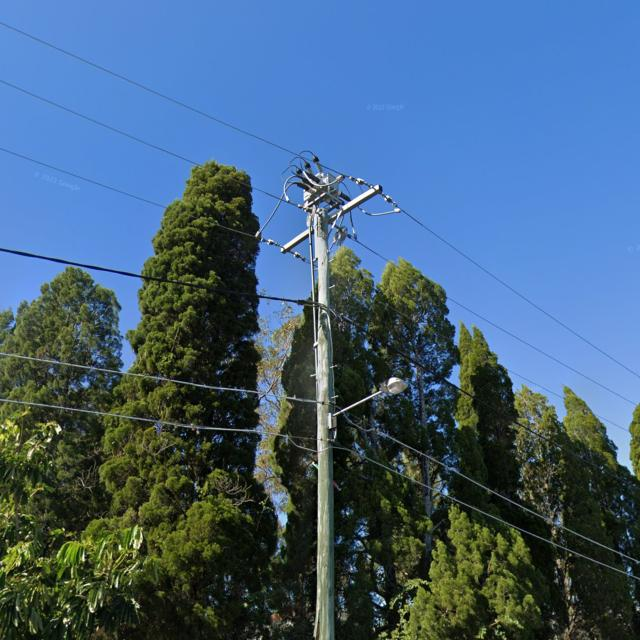HV-switch: (290, 154, 351, 210)
HV-transmission: (255, 174, 402, 265)
crossarm: (281, 184, 383, 254)
streetlight: (328, 375, 409, 419)
timber-pole: (313, 206, 335, 640)
